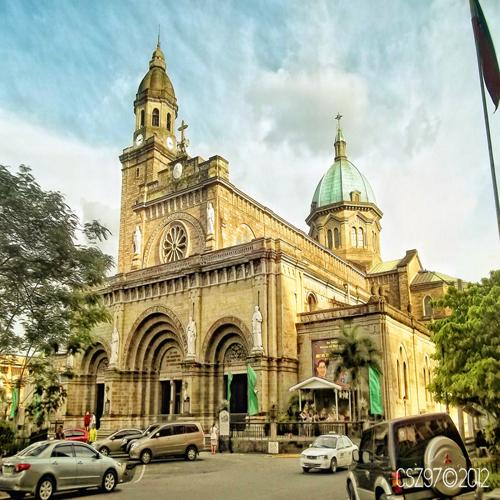Manila Cathedral Church: (55, 16, 461, 449)
